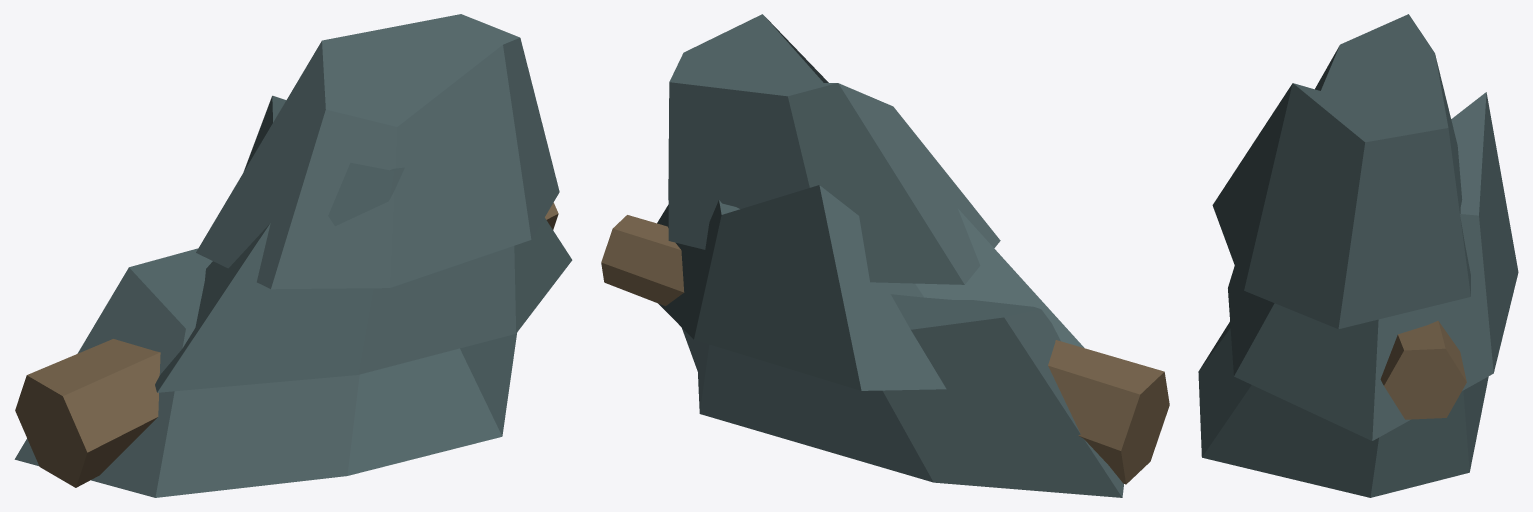
File: map-boundaries-v5__ridge_04.glb
The picture shows the model from 3 angles, left to right: view 1: azimuth 30°, elevation 25°; view 2: azimuth 150°, elevation 25°; view 3: azimuth 270°, elevation 25°; orthographic projection. The views are drawn at different scales.
Visible parts, largest first — view 1: ridge_04; view 2: ridge_04; view 3: ridge_04.
Boxes of the visible parts, box(x1,y1,x2,y2) form: ridge_04: box(14, 14, 572, 497); ridge_04: box(601, 14, 1169, 497); ridge_04: box(1198, 14, 1518, 497).
Size of the model in its own units: 1.51 by 0.9457 by 0.6907.
